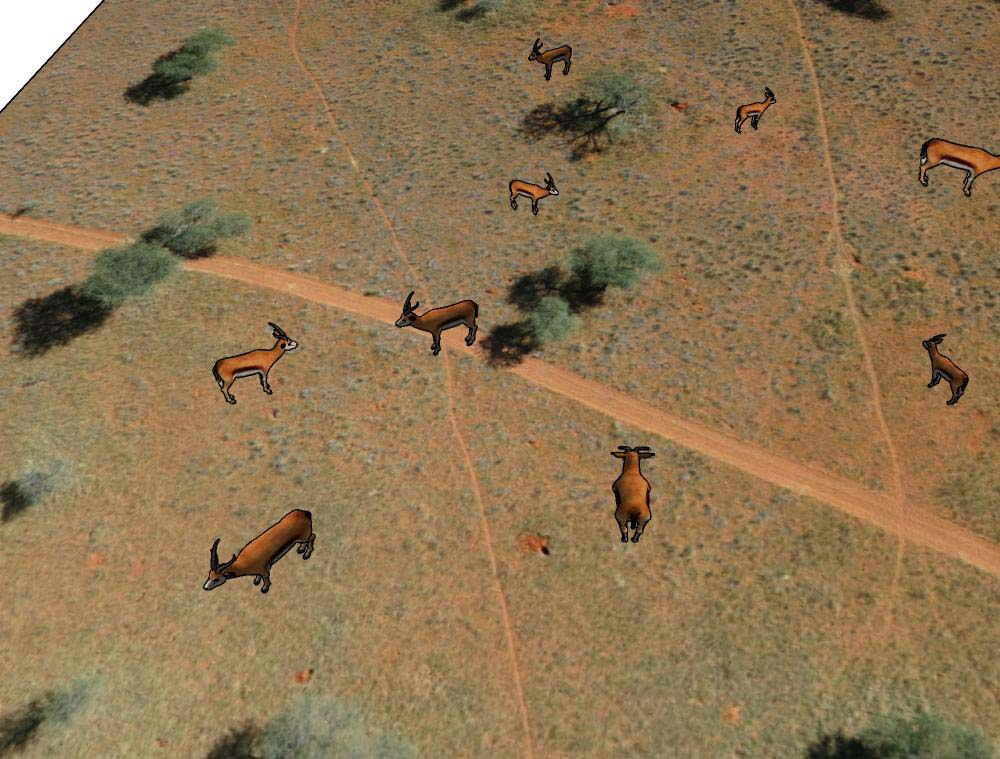springbok: (203, 507, 321, 594), (207, 325, 303, 404), (600, 435, 659, 549), (914, 132, 1000, 199), (394, 288, 479, 352), (912, 335, 974, 405), (505, 166, 556, 219), (730, 87, 778, 136), (526, 35, 573, 79)
